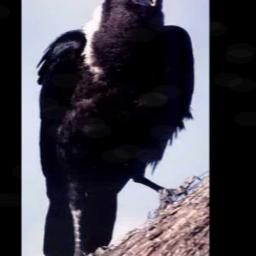Crow: (33, 0, 197, 256)
